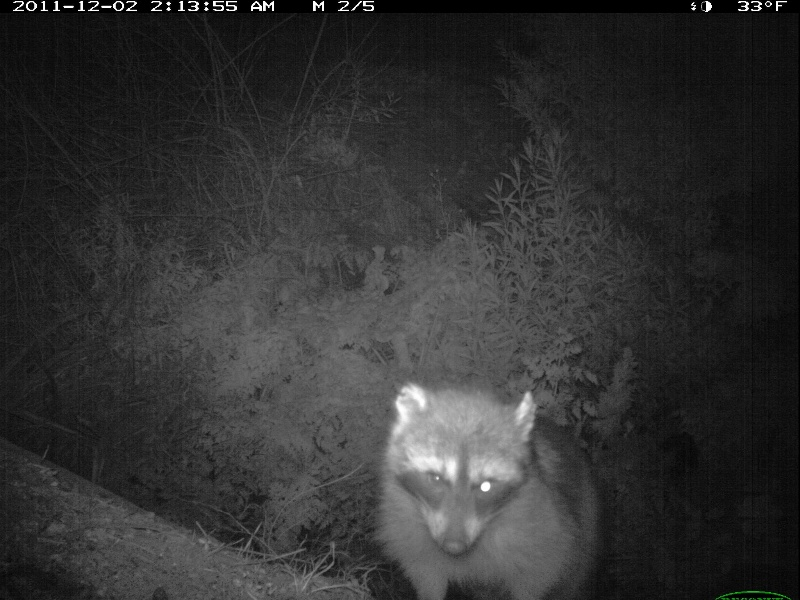raccoon: (371, 380, 603, 596)
